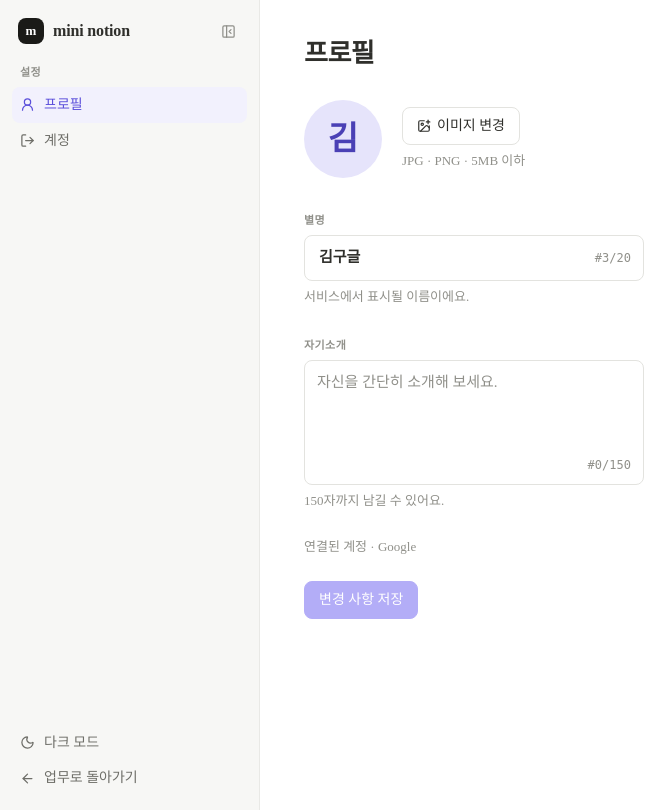
Test: 자기소개 수정·비우기 (US2) › 별명과 자기소개를 함께 고치면 한 번의 저장으로 모두 반영된다 (FR-010)
Replace the text in the field named "별명" with "새별명" at (451, 258), box x1=317 y1=245 x2=585 y2=271
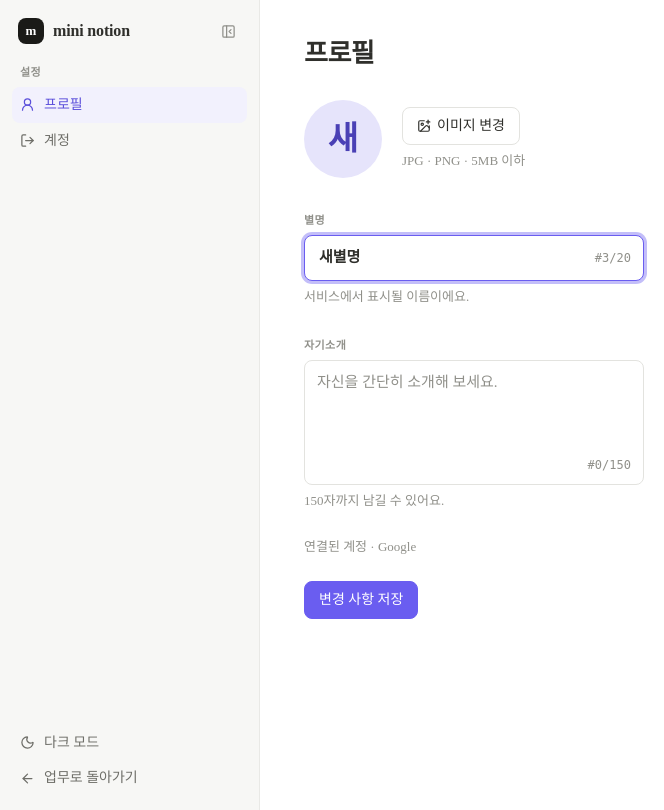
Type "소개도 바꿈" into the text box named "자기소개" at (474, 408), box x1=317 y1=370 x2=631 y2=446
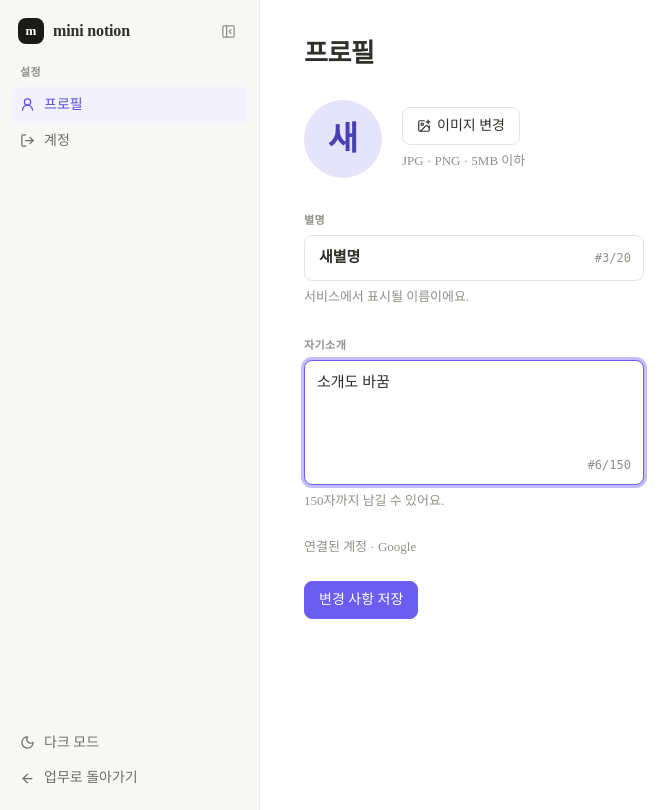
Click the button "변경 사항 저장" at (361, 600), box x1=304 y1=581 x2=418 y2=619
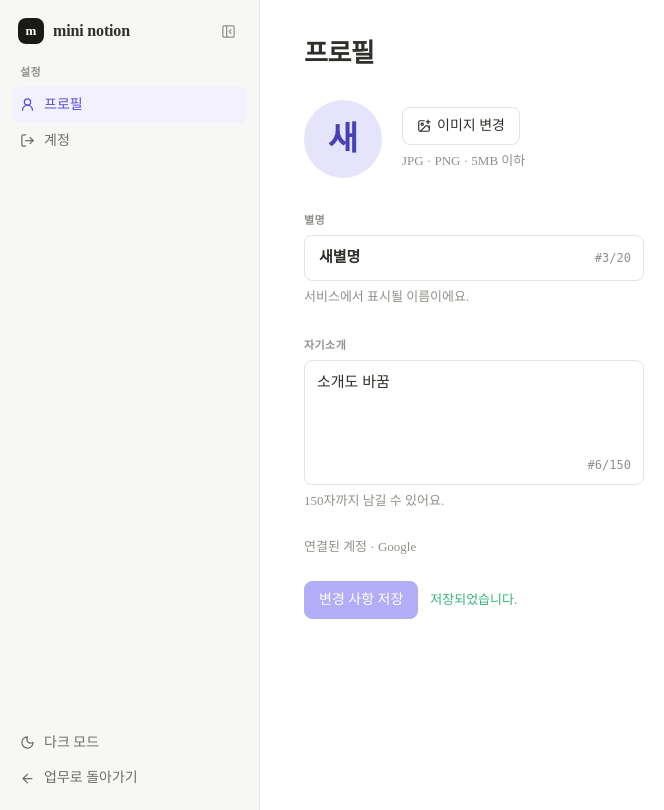
Result: the text "저장되었습니다." is shown at x1=430 y1=590 x2=517 y2=610
